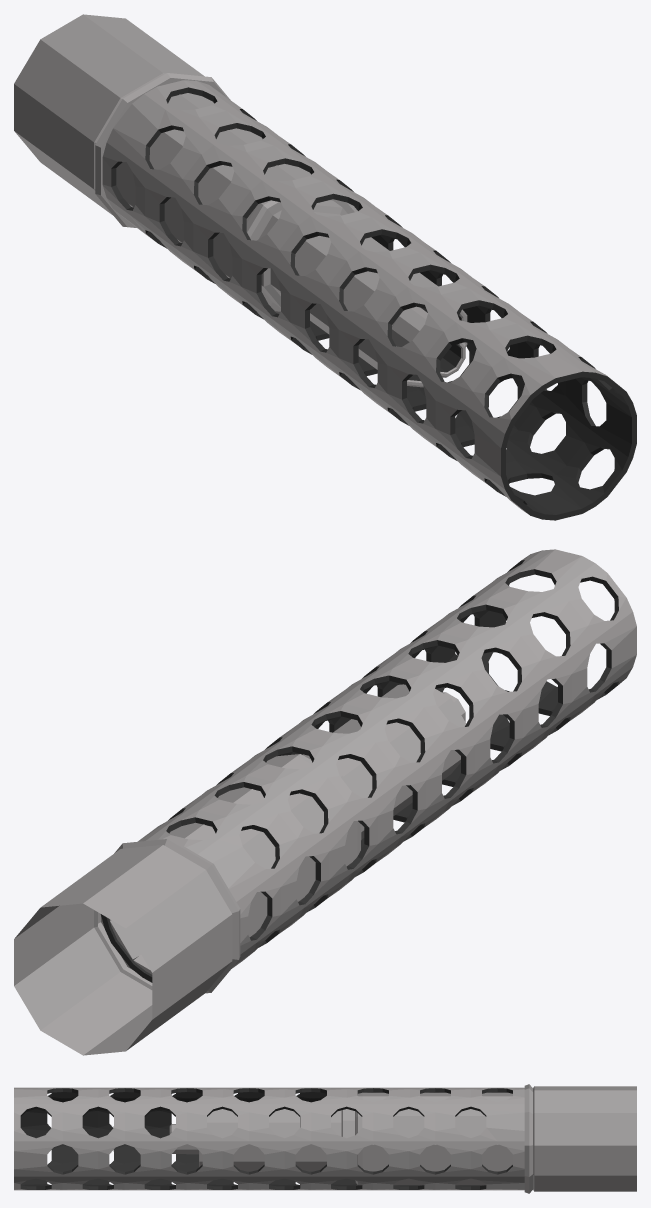
File: GunTrap_2.fbx
The picture shows the model from 3 angles, top to bottom: view 1: azimuth 30°, elevation 25°; view 2: azimuth 150°, elevation 25°; view 3: azimuth 270°, elevation 25°; orthographic projection. The views are drawn at different scales.
Visible parts, largest first — view 1: GunTrap_2; view 2: GunTrap_2; view 3: GunTrap_2.
Part boxes in pixels (x1=…): GunTrap_2: x1=14, y1=14, x2=636, y2=520; GunTrap_2: x1=14, y1=549, x2=636, y2=1055; GunTrap_2: x1=14, y1=1084, x2=636, y2=1193.
Size of the model in its own units: 14.1 by 14.82 by 82.55.
